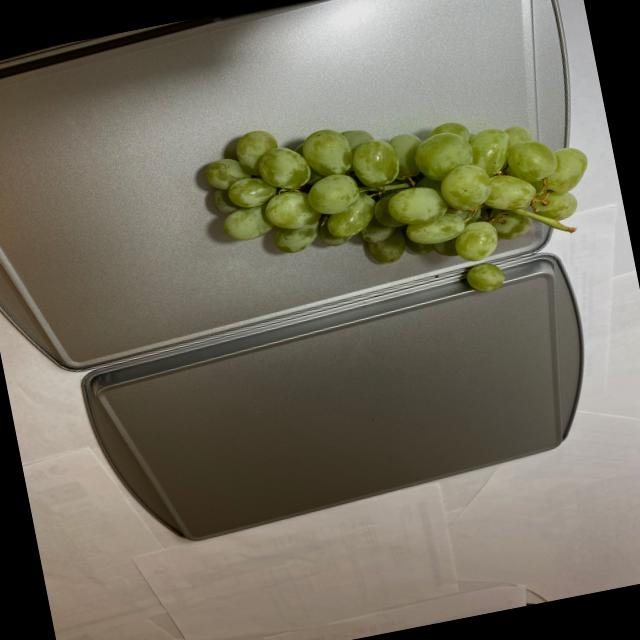grapes: (197, 73, 602, 304), (463, 257, 508, 297)
